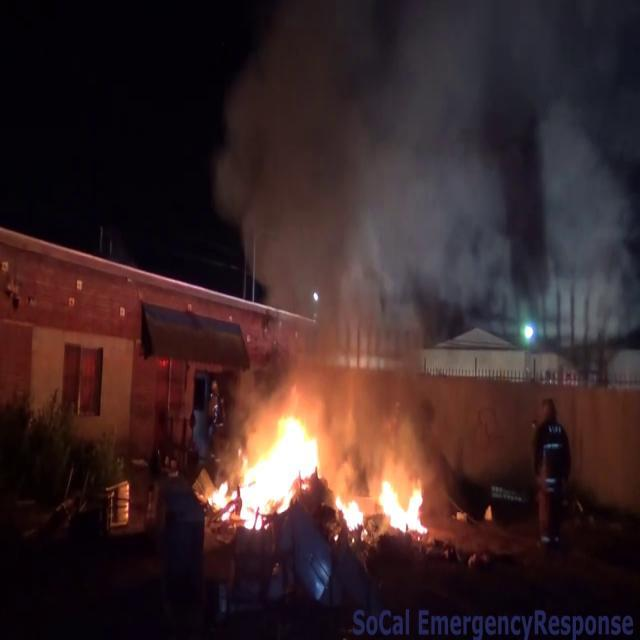Fire: (206, 400, 333, 526), (339, 464, 434, 544)
Smoke: (207, 0, 640, 345)
